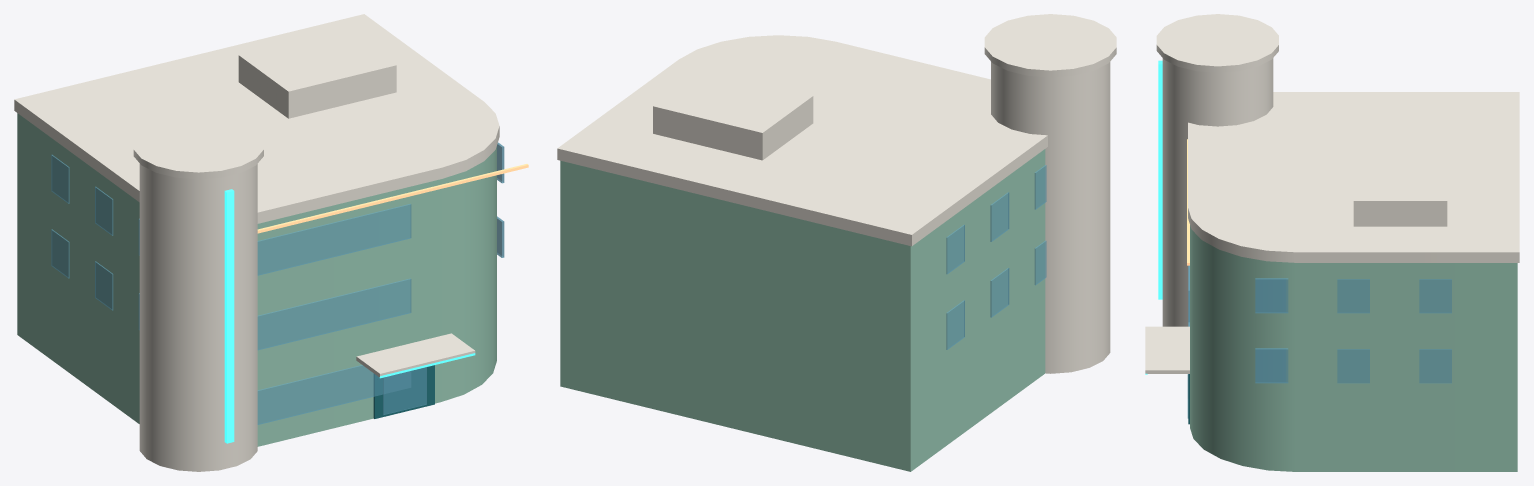
The model's file is lod_deco_hotel_b.glb.
3 views of the same model, side by side, from view 1: azimuth 30°, elevation 25°; view 2: azimuth 150°, elevation 25°; view 3: azimuth 270°, elevation 25° (orthographic). The views are drawn at different scales.
Visible parts, largest first — view 1: lod_deco_hotel_b; view 2: lod_deco_hotel_b; view 3: lod_deco_hotel_b.
Part boxes in pixels (x1=…): lod_deco_hotel_b: x1=14, y1=14, x2=528, y2=471; lod_deco_hotel_b: x1=557, y1=14, x2=1116, y2=471; lod_deco_hotel_b: x1=1145, y1=14, x2=1519, y2=471.
Bounding box in the file's own units: 17.75 × 13.35 × 15.98.
